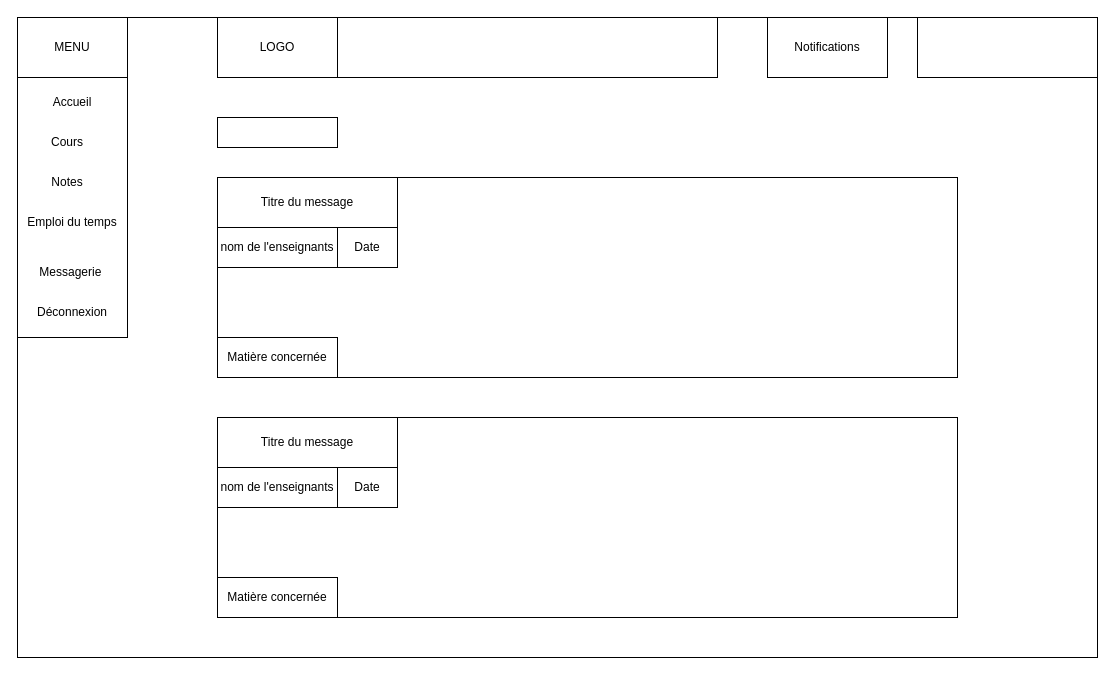
This 1115x675 diagram has some shape labels left out. Each missing label, with the centre of its shape:
"Derniers messages" goes at pixel 277 132.
"Nom de l'utilisateur" goes at pixel 1007 47.
"Nom du site" goes at pixel 527 47.
